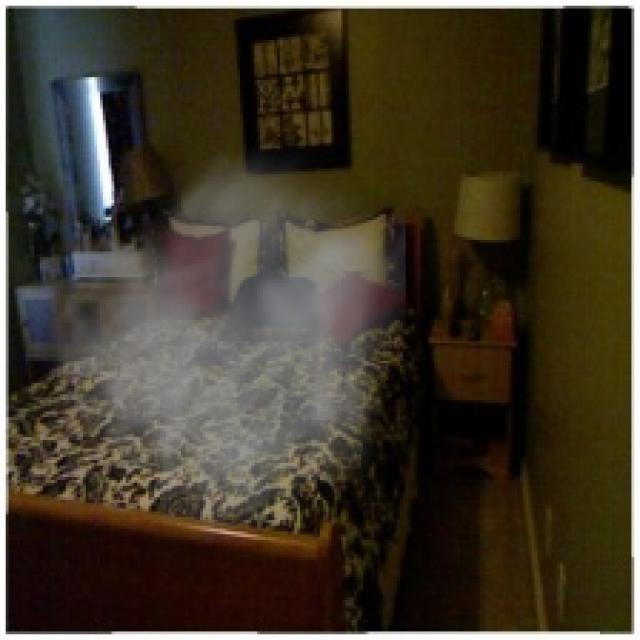smoke: (11, 135, 406, 554)
